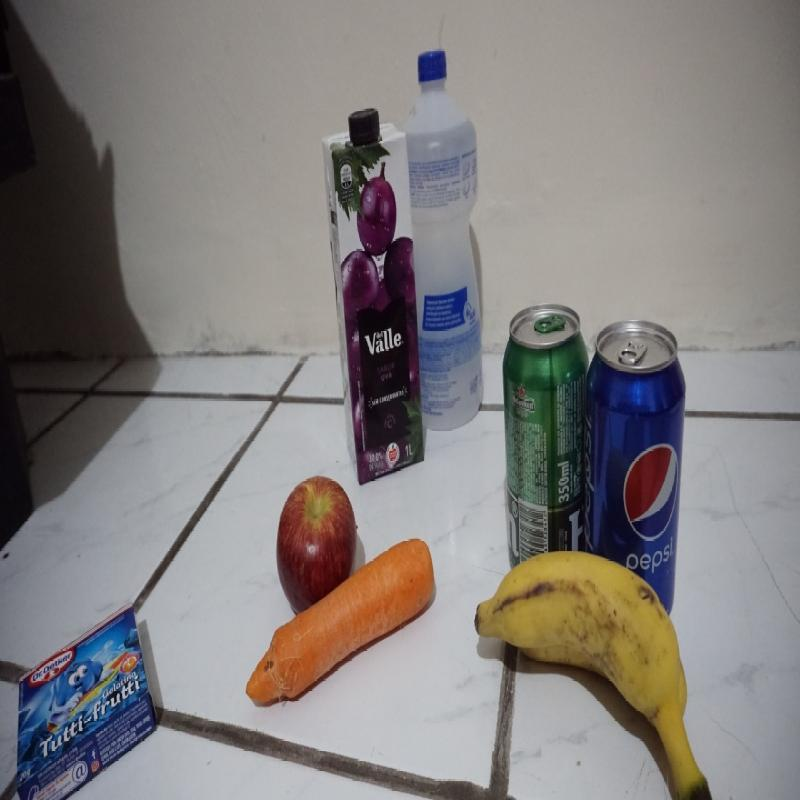Alcohol Bottle: (404, 45, 486, 434)
Apple: (275, 475, 360, 622)
Banana: (475, 550, 713, 799)
Beer can: (501, 302, 586, 573)
Carrot: (244, 536, 434, 710)
Gelatine: (17, 602, 157, 798)
Soda can: (586, 319, 688, 629)
